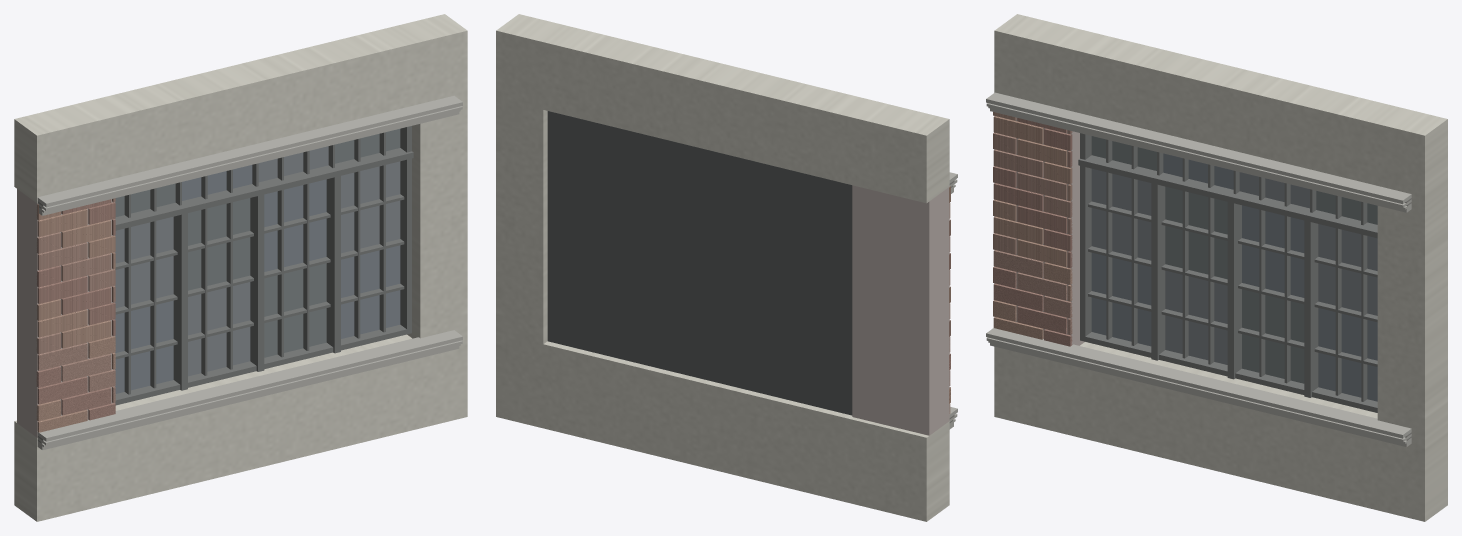
File: kinnear-window-far.glb
3 renders of one model, left to right at view 1: azimuth 30°, elevation 25°; view 2: azimuth 150°, elevation 25°; view 3: azimuth 330°, elevation 25°, orthographic.
Parts seen in each view (by area): view 1: 开纳公寓钢窗与砖垛; view 2: 开纳公寓钢窗与砖垛; view 3: 开纳公寓钢窗与砖垛.
Boxes of the visible parts, x1=… form: 开纳公寓钢窗与砖垛: x1=14, y1=14, x2=467, y2=521; 开纳公寓钢窗与砖垛: x1=496, y1=14, x2=957, y2=521; 开纳公寓钢窗与砖垛: x1=986, y1=14, x2=1447, y2=521.
Bounding box in the file's own units: 2.73 × 2.34 × 0.347.
12 materials, 4 textured.
